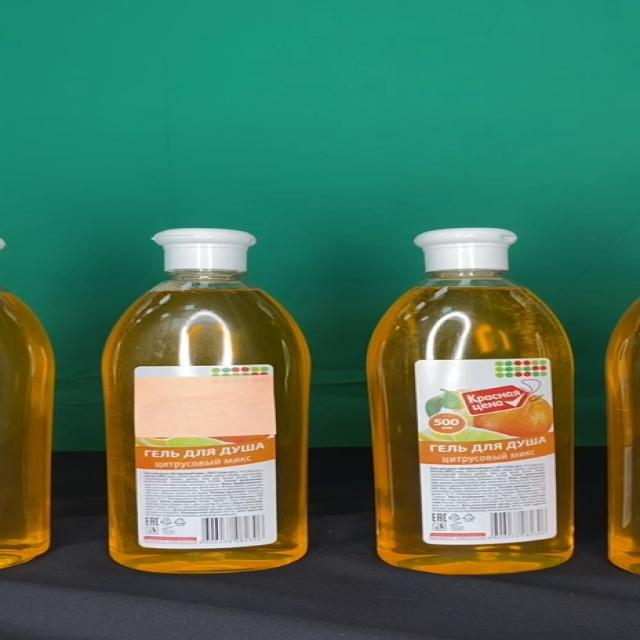Bottle: (368, 229, 575, 575), (104, 228, 310, 575)
Cap: (151, 228, 256, 272), (412, 230, 516, 272)
